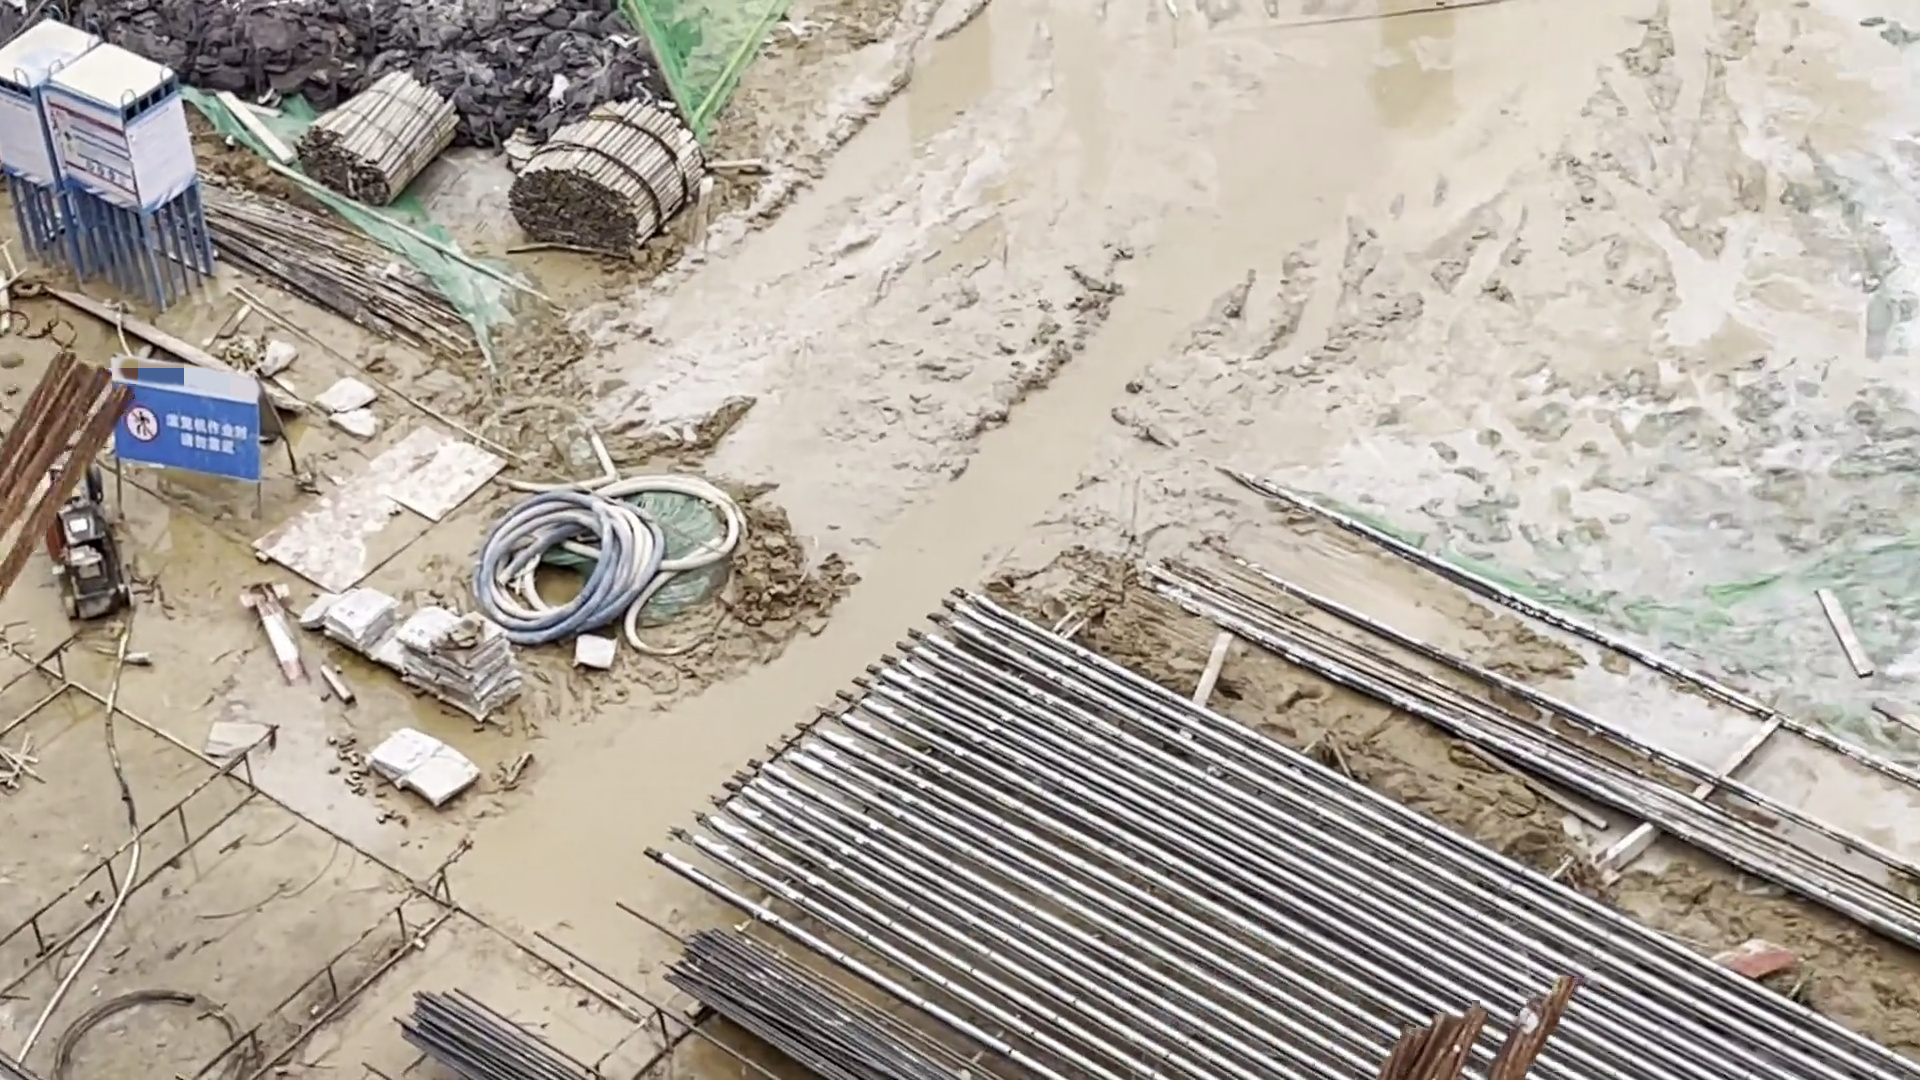slogan: (127, 390, 272, 477)
wood: (502, 102, 713, 266), (289, 71, 459, 212)
